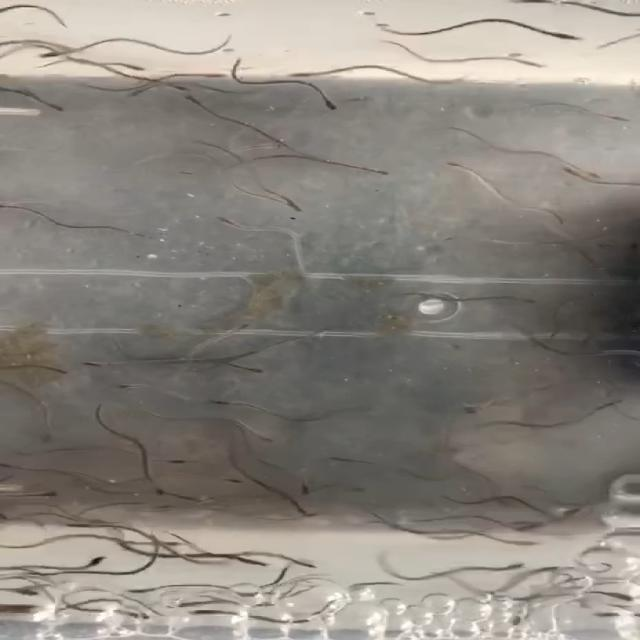active_glass_eel: (498, 49, 561, 77), (34, 91, 90, 121), (288, 556, 342, 586), (544, 24, 596, 54), (214, 549, 280, 571), (339, 166, 411, 183), (30, 43, 80, 67), (67, 556, 133, 574), (122, 578, 174, 600), (154, 456, 209, 476), (306, 98, 364, 116), (169, 89, 214, 111), (148, 74, 194, 95), (86, 381, 150, 395), (218, 473, 265, 492), (194, 61, 227, 88), (595, 106, 639, 126), (116, 54, 152, 78), (281, 68, 323, 88), (482, 536, 546, 549), (237, 426, 283, 444), (235, 362, 275, 382), (148, 536, 192, 554), (214, 211, 248, 233), (31, 427, 70, 446), (0, 197, 37, 217), (214, 320, 260, 336), (118, 501, 170, 515), (434, 158, 476, 174), (230, 142, 276, 156), (514, 518, 554, 534), (194, 394, 236, 409), (500, 559, 544, 573), (280, 197, 314, 215), (288, 480, 322, 496), (186, 496, 230, 508), (8, 586, 41, 602), (186, 606, 223, 620), (506, 296, 548, 308), (24, 490, 74, 500), (44, 363, 74, 379), (141, 488, 173, 502), (120, 606, 152, 620), (177, 596, 200, 614), (78, 356, 106, 370), (554, 504, 588, 514), (585, 168, 613, 180), (559, 164, 577, 176)
